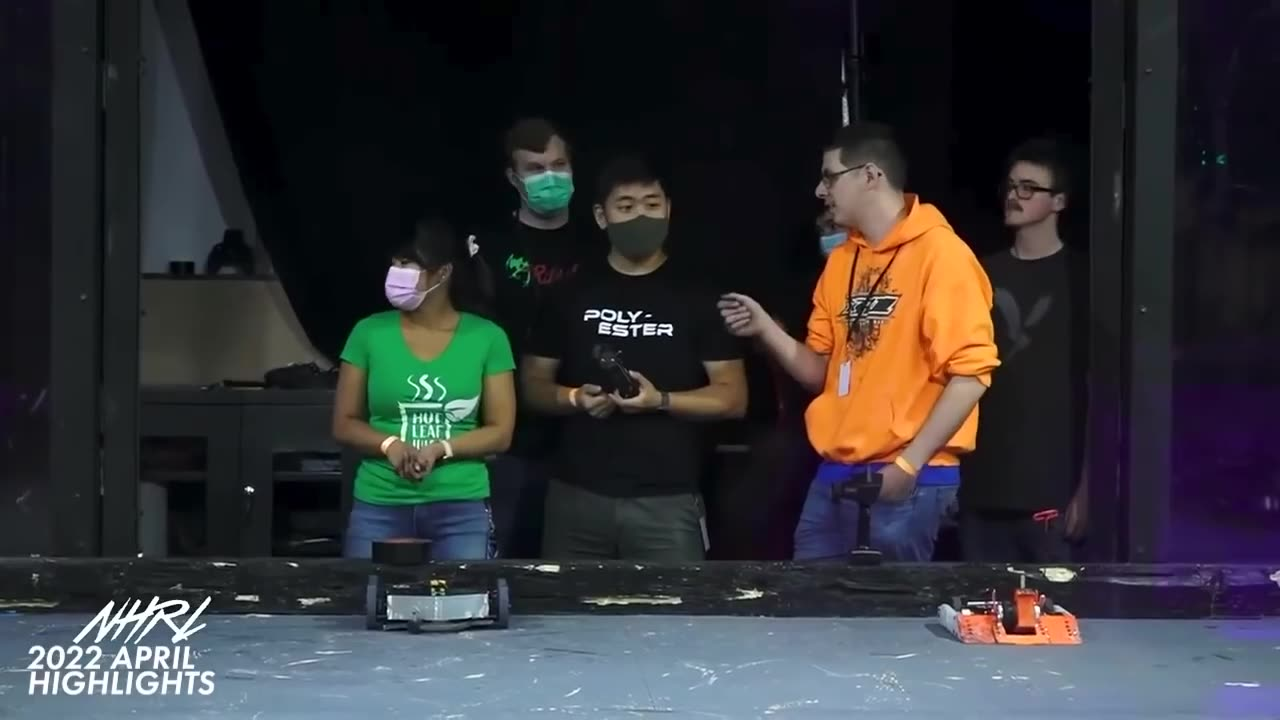combatbot: (363, 567, 511, 632), (937, 598, 1081, 644)
